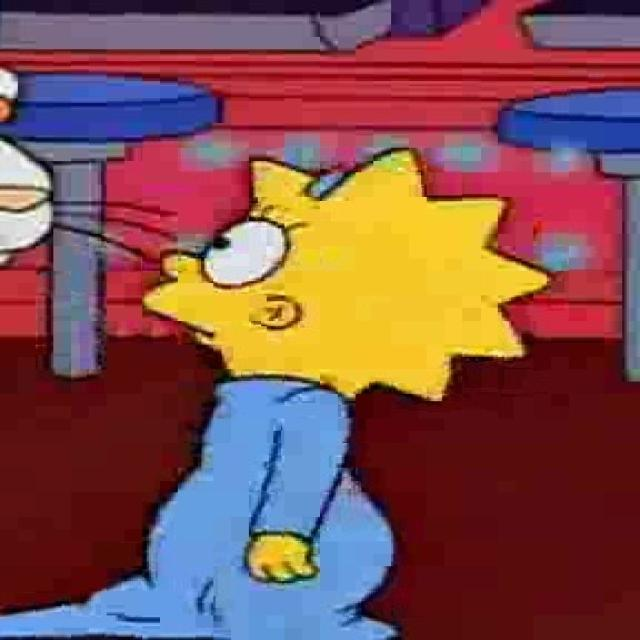Maggie Simpson: (141, 144, 557, 410)
